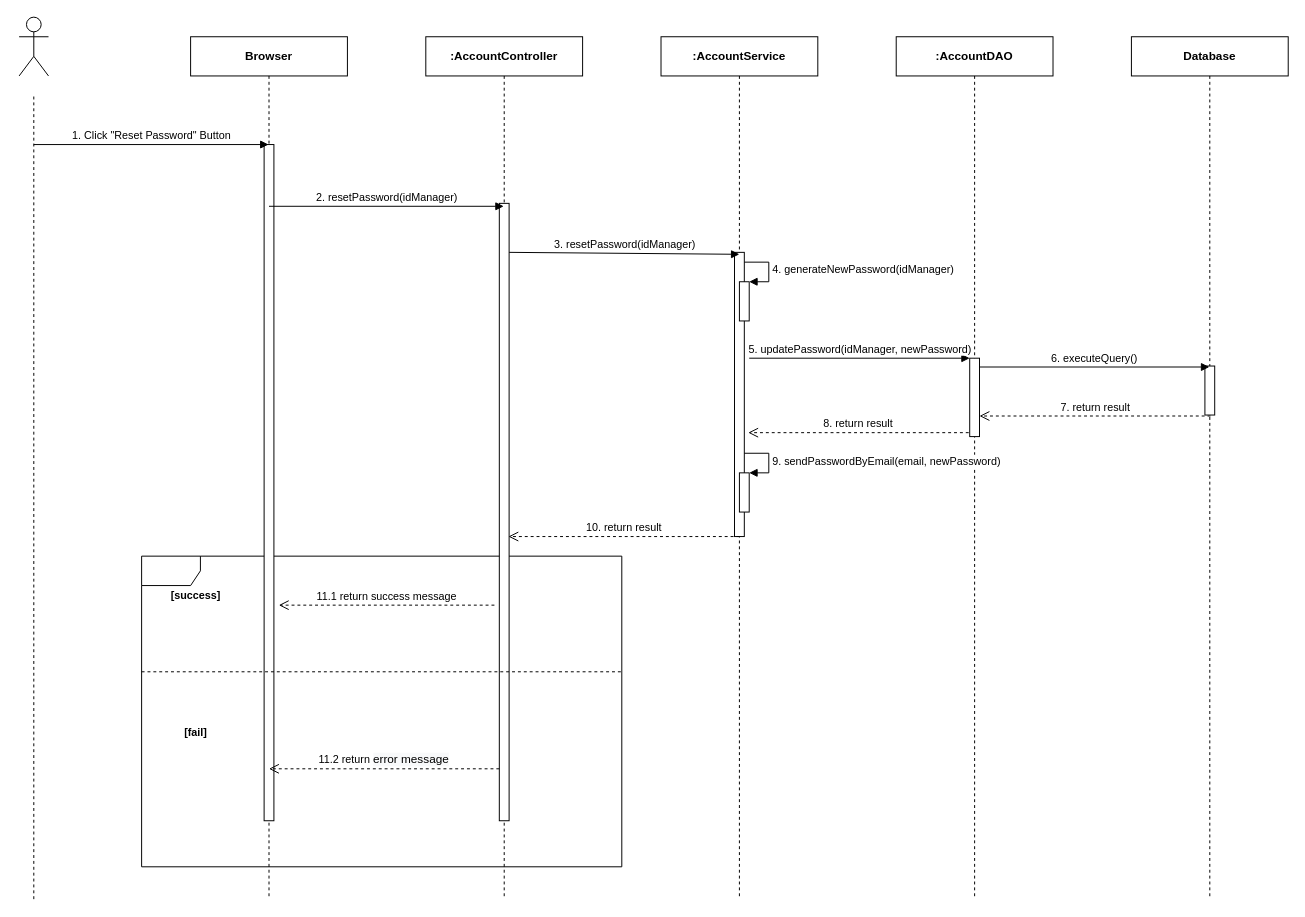
Image size: 1305x917. Some labels were removed from this diagram. The shapes that lost their labels are listed below. From the top down, each one's centre as x and y in pixels, then its label:
(33,46): Admin
(381,711): alt
